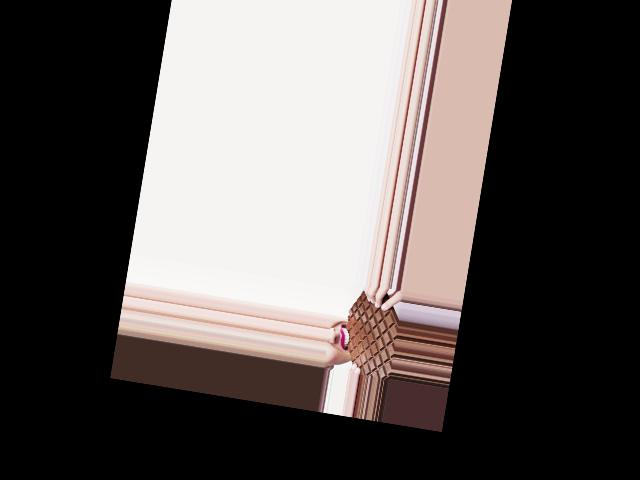chocolate: (337, 281, 404, 379)
